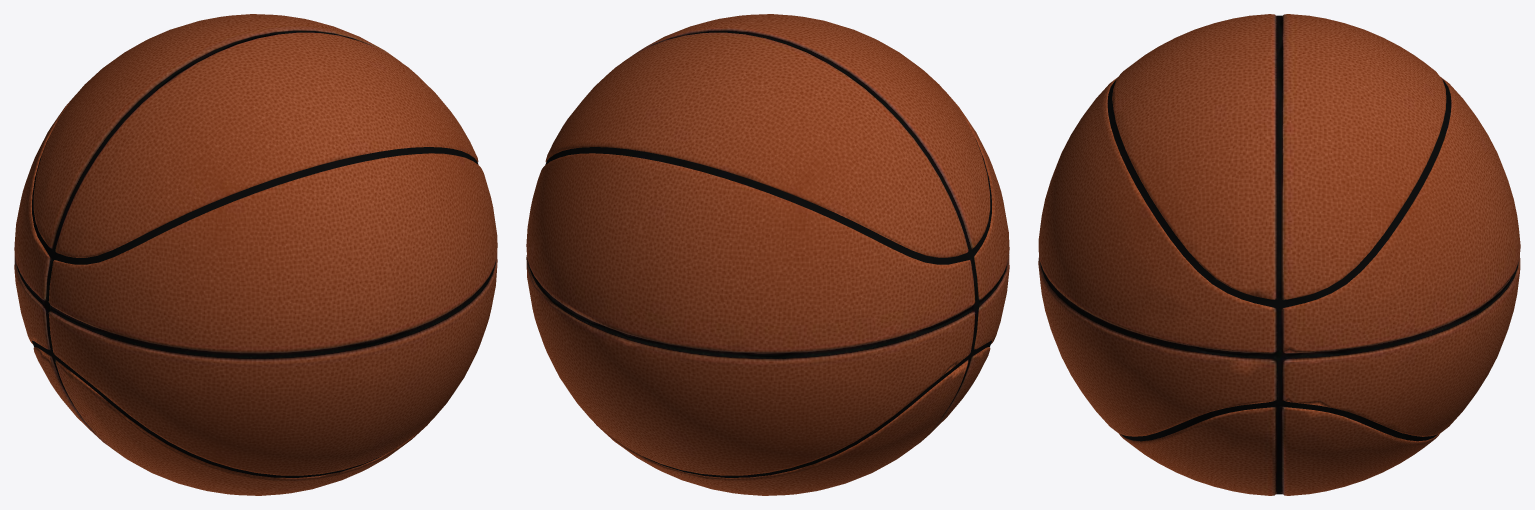
The model's file is realbasketball.glb.
The picture shows the model from 3 angles, left to right: view 1: azimuth 30°, elevation 25°; view 2: azimuth 150°, elevation 25°; view 3: azimuth 270°, elevation 25°; orthographic projection.
Visible parts, largest first — view 1: bbc_ball_body; view 2: bbc_ball_body; view 3: bbc_ball_body.
Part boxes in pixels (x1=…): bbc_ball_body: x1=14, y1=14, x2=497, y2=495; bbc_ball_body: x1=526, y1=14, x2=1009, y2=495; bbc_ball_body: x1=1038, y1=14, x2=1520, y2=495.
Size of the model in its own units: 0.2409 by 0.24 by 0.24.
Materials: 1 (1 with a texture image).
